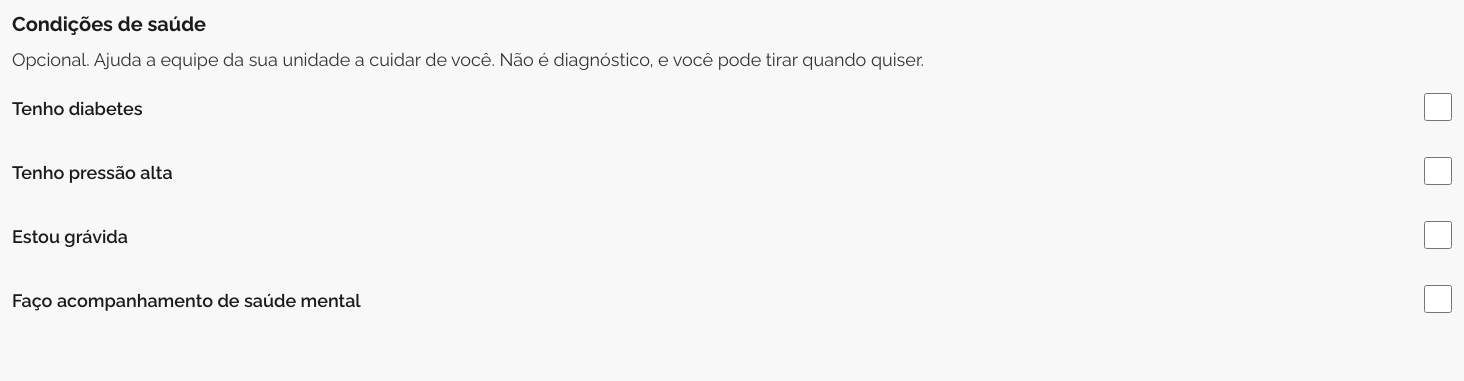
Test: HealthConditions › recusa do api: a frase e o interruptor como estava
This screenshot has width=1464, height=381.
Click the switch labelled "Estou grávida" at {"x": 1438, "y": 235}, box [1424, 221, 1452, 249]
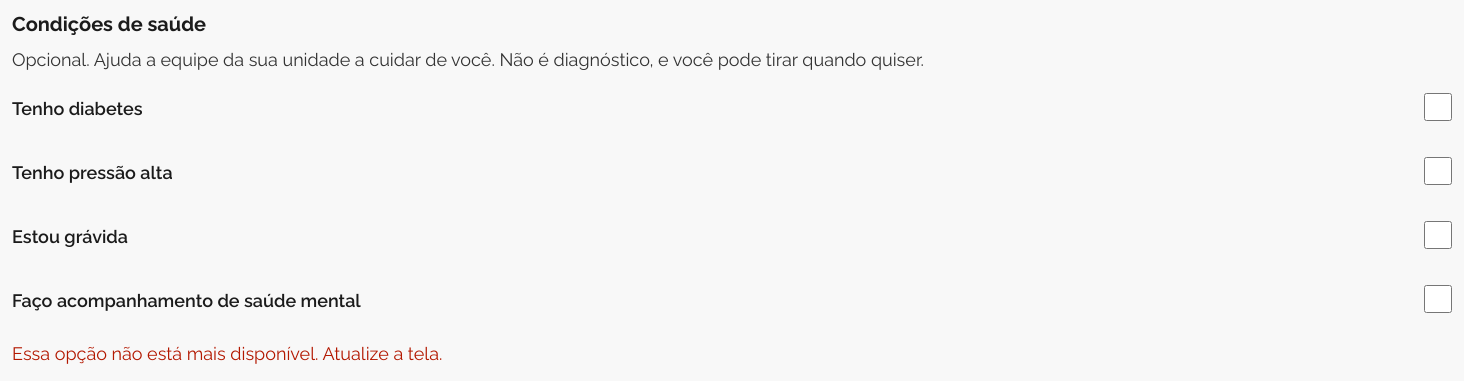
Expected: the message reads "Essa opção não está mais disponível. Atualize a tela.", [12, 339, 442, 364]
